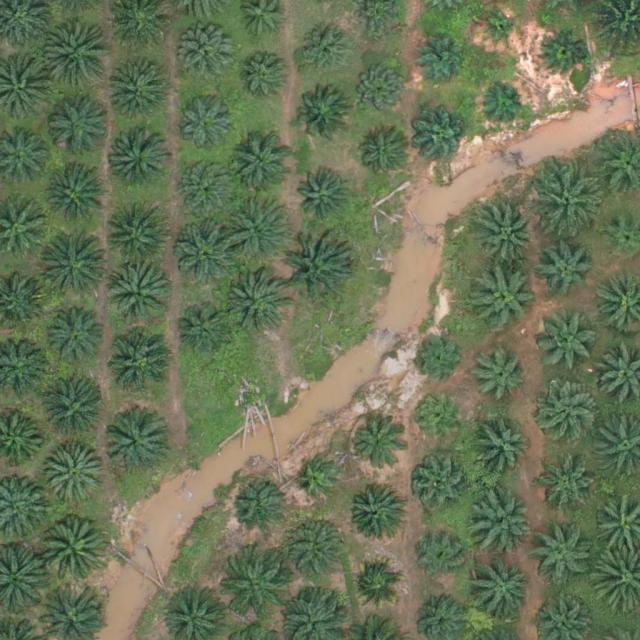Healthy: (532, 168, 603, 239), (43, 17, 113, 88), (38, 515, 108, 586), (281, 233, 352, 303), (221, 194, 291, 264), (41, 230, 111, 300), (109, 64, 172, 127), (530, 528, 593, 591), (472, 556, 535, 619), (285, 515, 348, 578), (535, 381, 598, 444), (472, 269, 535, 332), (224, 271, 287, 334), (177, 219, 240, 282), (49, 95, 111, 158), (110, 131, 172, 194), (177, 93, 240, 155), (472, 419, 534, 482), (219, 556, 281, 619), (103, 414, 165, 477), (45, 444, 107, 507), (538, 309, 600, 372), (468, 344, 530, 407), (105, 263, 167, 326), (105, 208, 167, 271), (45, 165, 107, 228), (44, 305, 106, 368), (231, 133, 293, 195), (474, 492, 536, 554), (44, 383, 106, 445), (478, 203, 540, 265), (109, 331, 171, 393), (234, 50, 289, 105), (294, 86, 349, 141), (414, 29, 469, 84), (416, 112, 471, 167), (544, 463, 599, 518), (412, 393, 467, 448), (414, 529, 469, 584), (349, 484, 404, 539), (349, 558, 404, 613), (233, 479, 288, 534), (538, 245, 593, 300), (297, 172, 352, 227), (181, 160, 236, 215), (356, 129, 410, 184), (353, 62, 407, 117), (297, 24, 351, 79), (182, 31, 236, 86), (413, 456, 467, 511), (352, 419, 406, 474), (413, 331, 467, 386), (178, 301, 232, 356)
Small: (297, 457, 344, 505), (539, 29, 586, 77), (481, 81, 528, 128), (481, 12, 520, 51)
